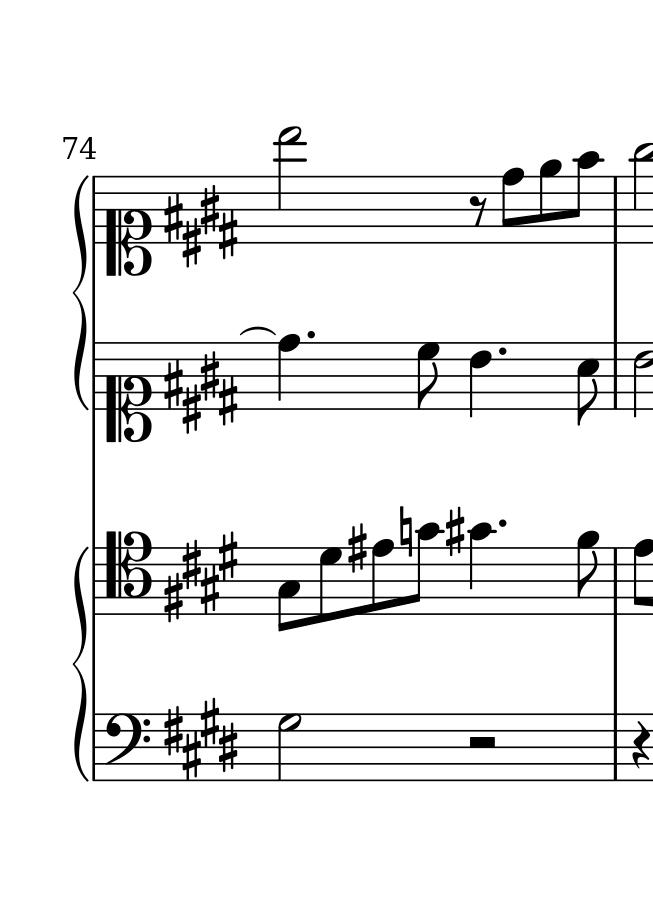2_11: (629, 138, 653, 246)
2_13: (273, 124, 307, 246)
2_6: (632, 341, 653, 420)
2_7: (276, 711, 301, 781)
4: (79, 135, 96, 162)
4_6: (469, 340, 492, 418)
4_8: (277, 332, 299, 412)
7: (62, 134, 78, 161)
8_10: (409, 521, 439, 617), (572, 150, 602, 245), (468, 521, 493, 619)
8_3: (276, 546, 301, 634)
8_5: (575, 341, 600, 426)
8_7: (318, 545, 341, 624), (416, 341, 440, 410)
8_8: (500, 166, 525, 246), (370, 538, 394, 617), (632, 537, 652, 616)
8_9: (576, 531, 600, 617), (539, 158, 561, 244)
Brace: (73, 173, 91, 415), (72, 544, 89, 785)
E_S: (162, 532, 239, 619), (161, 352, 241, 434), (162, 697, 241, 780), (163, 182, 240, 265)
Fclef: (102, 711, 149, 782)
Natural: (398, 506, 414, 560)
Rests2: (465, 735, 498, 751)
Rests4: (631, 719, 650, 770)
Rests8: (468, 194, 488, 227)
Sharp: (347, 522, 367, 574), (445, 506, 465, 558)
Single_barline: (609, 340, 625, 407), (608, 714, 624, 781), (608, 549, 624, 615), (88, 546, 103, 616), (89, 341, 103, 411), (88, 177, 102, 244), (609, 177, 623, 243), (89, 714, 102, 781)
Slur: (239, 326, 277, 337)
Soprano_Cclef: (103, 342, 149, 442), (104, 177, 149, 275)
Tensor_Cclef: (105, 530, 152, 614)
dot: (496, 344, 509, 358), (304, 328, 317, 340), (497, 517, 508, 530)
